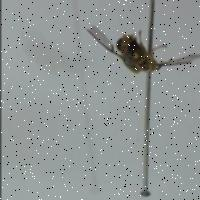Oriental-fruit-fly: (80, 18, 200, 78)
